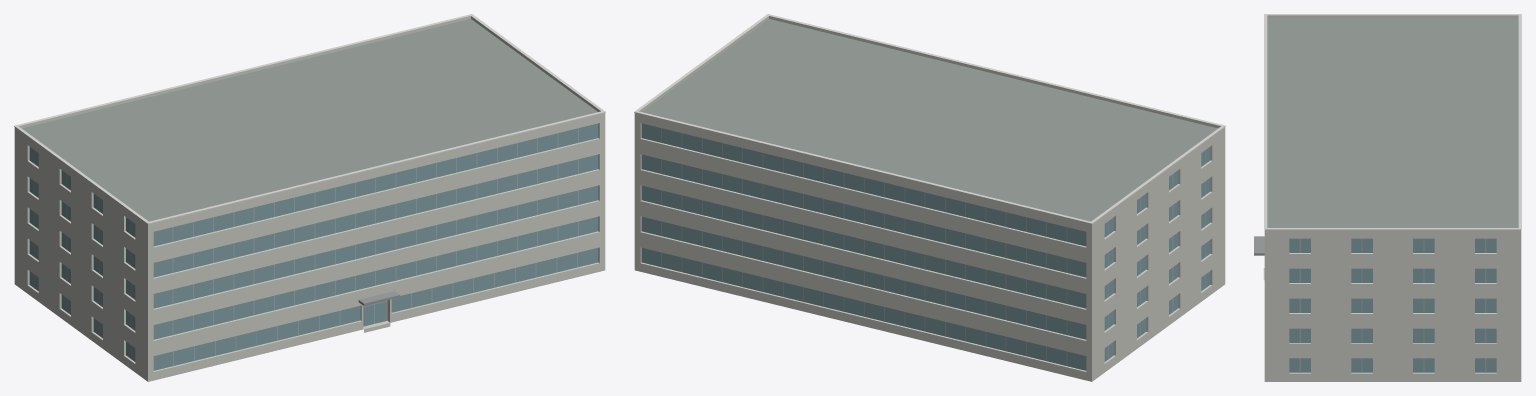
3 views of the same model, side by side, from view 1: azimuth 30°, elevation 25°; view 2: azimuth 150°, elevation 25°; view 3: azimuth 270°, elevation 25° (orthographic). The views are drawn at different scales.
Parts seen in each view (by area): view 1: library__wall, library__roof, library__glass, library__parapet, library__trim, library__frame; view 2: library__wall, library__roof, library__glass, library__parapet, library__trim, library__frame; view 3: library__roof, library__wall, library__glass, library__trim, library__parapet, library__frame.
Boxes of the visible parts, x1,y1,x2,y2 form: library__wall: (14,115,605,381); library__roof: (16,19,604,381); library__glass: (29,123,598,370); library__parapet: (14,16,605,226); library__trim: (14,14,605,224); library__frame: (34,128,578,366); library__wall: (634,115,1225,381); library__roof: (635,19,1220,381); library__glass: (641,123,1210,370); library__parapet: (634,16,1225,226); library__trim: (634,14,1225,224); library__frame: (661,128,1205,365); library__roof: (1267,18,1520,381); library__wall: (1264,232,1521,381); library__glass: (1289,238,1496,372); library__trim: (1264,14,1521,230); library__parapet: (1264,15,1521,231); library__frame: (1299,238,1486,372).
Size of the model in its own units: 55.54 by 18.75 by 29.19.
